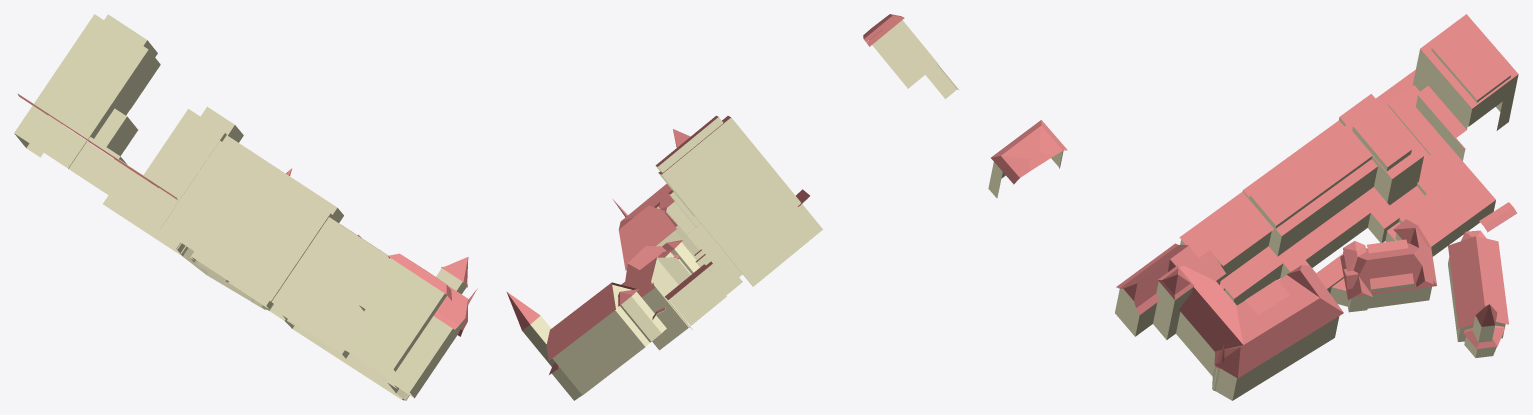
Rendered from tile_012.glb.
3 views of the same model, side by side, from view 1: azimuth 30°, elevation 25°; view 2: azimuth 150°, elevation 25°; view 3: azimuth 270°, elevation 25° (orthographic). The views are drawn at different scales.
Parts seen in each view (by area): view 1: Batched_Building_ID_A7597734-650F-48DE-8032-CB4D5E76CA2E, Batched_Building_ID_1E0197C8-C757-4A39-AEA0-8D06C1844FF4; view 2: Batched_Building_ID_A7597734-650F-48DE-8032-CB4D5E76CA2E, Batched_Building_ID_1E0197C8-C757-4A39-AEA0-8D06C1844FF4; view 3: Batched_Building_ID_1E0197C8-C757-4A39-AEA0-8D06C1844FF4, Batched_Building_ID_A7597734-650F-48DE-8032-CB4D5E76CA2E.
Boxes of the visible parts, x1,y1,x2,y2 form: Batched_Building_ID_A7597734-650F-48DE-8032-CB4D5E76CA2E: [14, 14, 466, 400]; Batched_Building_ID_1E0197C8-C757-4A39-AEA0-8D06C1844FF4: [18, 94, 477, 336]; Batched_Building_ID_A7597734-650F-48DE-8032-CB4D5E76CA2E: [522, 20, 958, 400]; Batched_Building_ID_1E0197C8-C757-4A39-AEA0-8D06C1844FF4: [506, 14, 904, 374]; Batched_Building_ID_1E0197C8-C757-4A39-AEA0-8D06C1844FF4: [991, 14, 1518, 378]; Batched_Building_ID_A7597734-650F-48DE-8032-CB4D5E76CA2E: [988, 48, 1518, 400].
Bounding box in the file's own units: 94.18 × 89.74 × 140.
